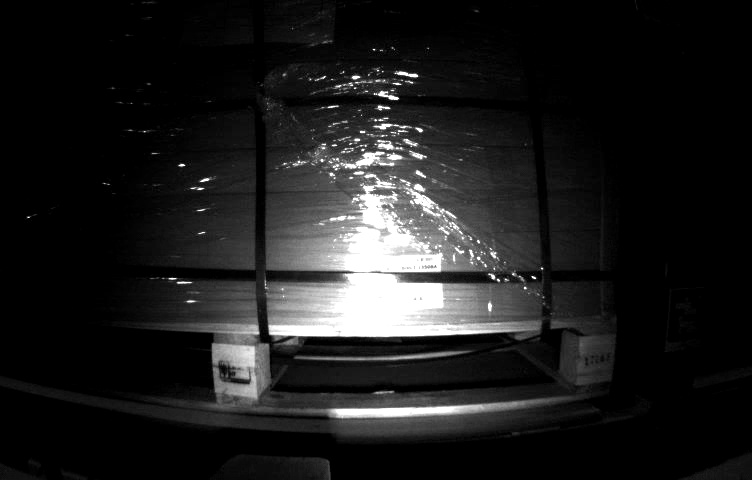True Barcode: (384, 257, 442, 306)
